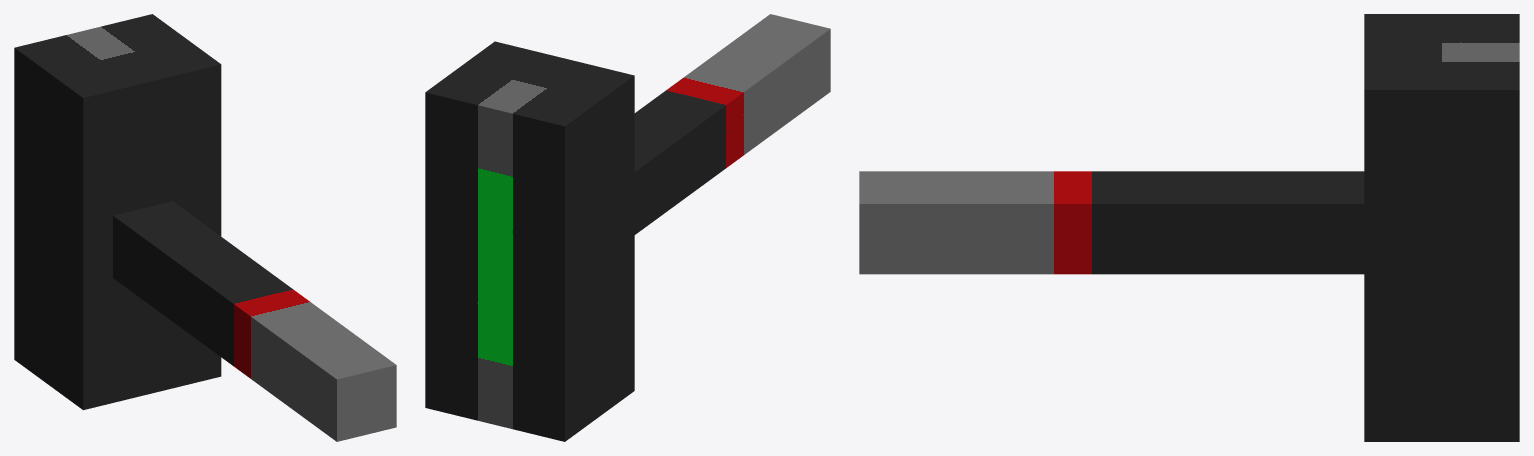
File: Hammer.glb
3 views of the same model, side by side, from view 1: azimuth 30°, elevation 25°; view 2: azimuth 150°, elevation 25°; view 3: azimuth 270°, elevation 25° (orthographic). The views are drawn at different scales.
Visible parts, largest first — view 1: weapon; view 2: weapon; view 3: weapon.
Boxes of the visible parts, x1,y1,x2,y2 form: weapon: (14,14,396,441); weapon: (425,14,830,441); weapon: (859,14,1519,441).
Size of the model in its own units: 0.1448 by 0.3125 by 0.5312.
Materials: 1 (1 with a texture image).
